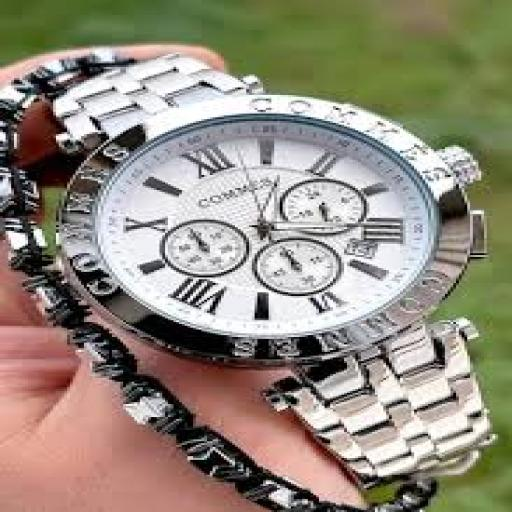KolSaati: (27, 35, 495, 483)
